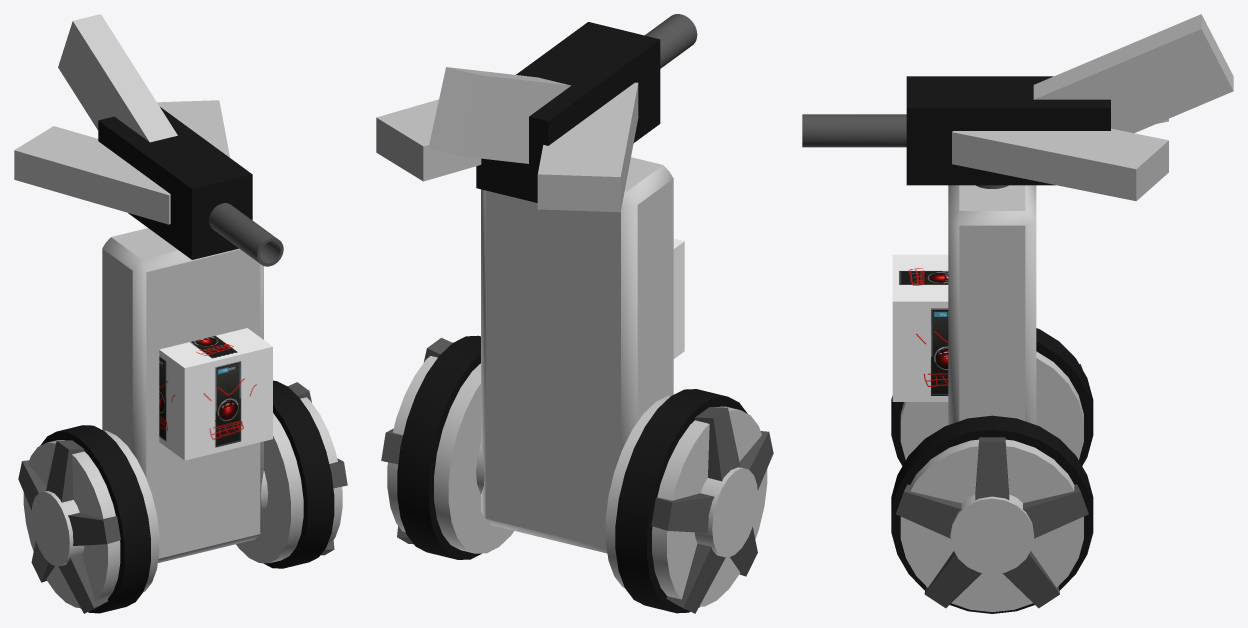
Rendered from roller gun.fbx.
3 views of the same model, side by side, from view 1: azimuth 30°, elevation 25°; view 2: azimuth 150°, elevation 25°; view 3: azimuth 270°, elevation 25° (orthographic). The views are drawn at different scales.
Parts seen in each view (by area): view 1: Cube, Cylinder_2_2, Cube_2, Cylinder_1, Cube_1, Cube_3_2, Cube_3, Cylinder_2, Tube, Cube_4, Cube_0, Cube_3_3 (+2 smaller); view 2: Cube, Cylinder_2_2, Cylinder_1, Cube_3_2, Cube_1, Cube_3, Cylinder_2, Cube_1_2, Cube_0, Cube_2_2, Tube, Cube_2 (+2 smaller); view 3: Cube, Cylinder_2_2, Cube_1, Cube_3, Cube_3_2, Cylinder_1, Cube_2, Cylinder_2, Tube, Cube_1_2, Cube_4, Cube_0 (+2 smaller).
Boxes of the visible parts, <box> form: Cube: <box>102,228,263,562</box>; Cylinder_2_2: <box>23,386,342,607</box>; Cube_2: <box>159,328,272,460</box>; Cylinder_1: <box>40,380,334,613</box>; Cube_1: <box>98,107,252,259</box>; Cube_3_2: <box>14,100,229,224</box>; Cube_3: <box>58,14,177,142</box>; Cylinder_2: <box>31,471,267,566</box>; Tube: <box>209,203,283,266</box>; Cube_4: <box>68,458,347,545</box>; Cube_0: <box>46,382,311,502</box>; Cube_3_3: <box>58,540,334,613</box>; Cube: <box>481,157,673,553</box>; Cylinder_2_2: <box>387,342,767,606</box>; Cylinder_1: <box>397,335,747,613</box>; Cube_3_2: <box>376,82,638,212</box>; Cube_1: <box>476,22,660,202</box>; Cube_3: <box>428,67,570,163</box>; Cylinder_2: <box>476,444,758,557</box>; Cube_1_2: <box>381,428,714,532</box>; Cube_0: <box>423,337,740,481</box>; Cube_2_2: <box>397,526,725,613</box>; Tube: <box>644,14,697,68</box>; Cube_2: <box>673,238,684,358</box>; Cube: <box>948,185,1036,424</box>; Cylinder_2_2: <box>900,351,1083,612</box>; Cube_1: <box>906,76,1110,185</box>; Cube_3: <box>1033,14,1233,133</box>; Cube_3_2: <box>952,119,1168,201</box>; Cylinder_1: <box>891,328,1093,613</box>; Cube_2: <box>892,254,948,401</box>; Cylinder_2: <box>950,494,1034,574</box>; Tube: <box>802,114,906,147</box>; Cube_1_2: <box>1023,364,1088,538</box>; Cube_4: <box>896,484,961,538</box>; Cube_0: <box>975,437,1009,500</box>.
Size of the model in its own units: 180 by 321 by 233.
4 materials, 1 textured.
